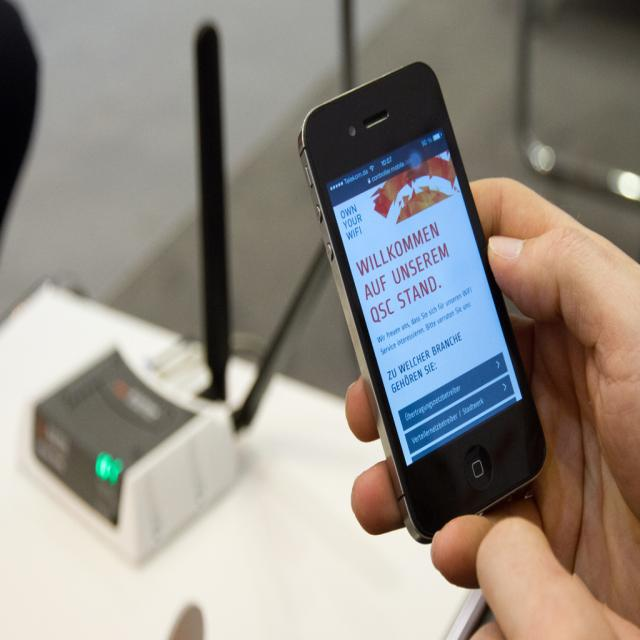Mobile-phone: (294, 71, 548, 554)
